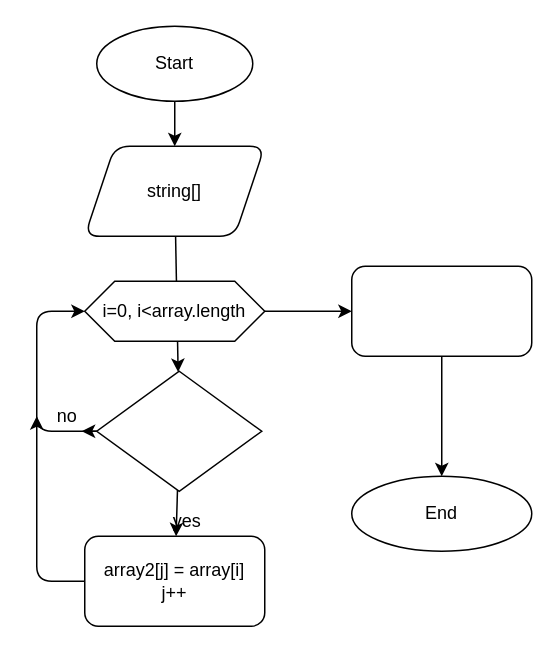
Some shapes in this 558 by 653 pixel diagram are drawn without their labels. The centre of each missing label's shape, as x and y in pixels:
array[i].length <= 3: the point at 178,430
Print array[i] Print array[j]: the point at 441,310
